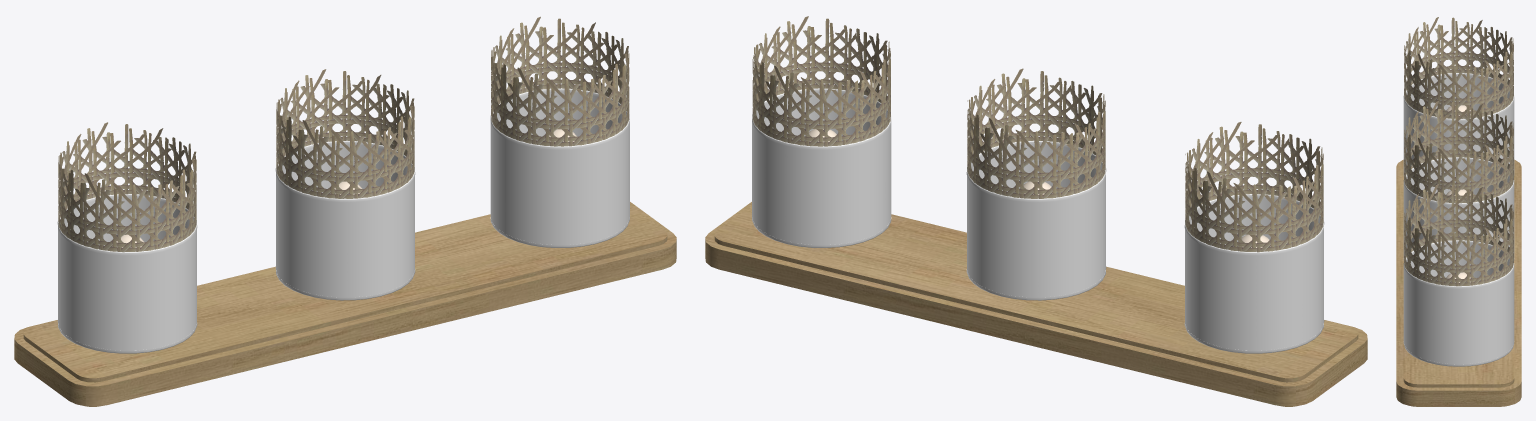
The model's file is morph-translation.fbx.
3 views of the same model, side by side, from view 1: azimuth 30°, elevation 25°; view 2: azimuth 150°, elevation 25°; view 3: azimuth 270°, elevation 25° (orthographic). The views are drawn at different scales.
Visible parts, largest first — view 1: support, tissus, paillottes, polyphanes, biais; view 2: support, tissus, paillottes, polyphanes, biais; view 3: paillottes, tissus, support, polyphanes, biais, Ampoules.
Part boxes in pixels (left/top/right/bottom): support: left=14, top=202, right=676, bottom=406; tissus: left=58, top=123, right=629, bottom=350; paillottes: left=58, top=16, right=629, bottom=252; polyphanes: left=64, top=92, right=622, bottom=245; biais: left=57, top=88, right=629, bottom=353; support: left=705, top=202, right=1367, bottom=406; tissus: left=752, top=123, right=1323, bottom=350; paillottes: left=752, top=16, right=1323, bottom=252; polyphanes: left=756, top=92, right=1320, bottom=246; biais: left=752, top=88, right=1324, bottom=353; paillottes: left=1404, top=17, right=1513, bottom=286; tissus: left=1403, top=99, right=1514, bottom=364; support: left=1396, top=159, right=1521, bottom=406; polyphanes: left=1406, top=76, right=1509, bottom=281; biais: left=1403, top=73, right=1514, bottom=366; Ampoules: left=1444, top=105, right=1473, bottom=282.
Bounding box in the file's own units: 75 × 25.74 × 17.
Materials: 6 (3 with a texture image).
